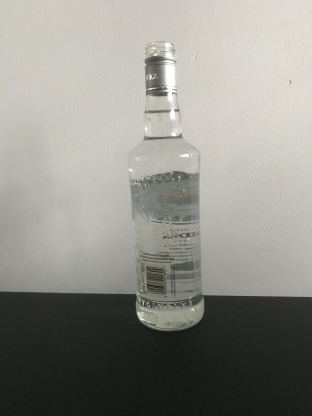nakretka: (143, 39, 178, 96), (142, 40, 178, 95)
